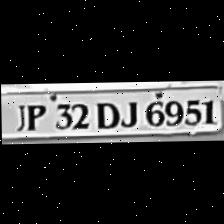1: (200, 96, 218, 124)
2: (68, 100, 92, 130)
3: (48, 100, 72, 128)
5: (180, 95, 202, 124)
6: (140, 96, 162, 124)
9: (162, 96, 180, 124)
D: (89, 97, 119, 128)
J: (116, 97, 138, 126), (7, 100, 23, 129)
P: (17, 100, 46, 129)
